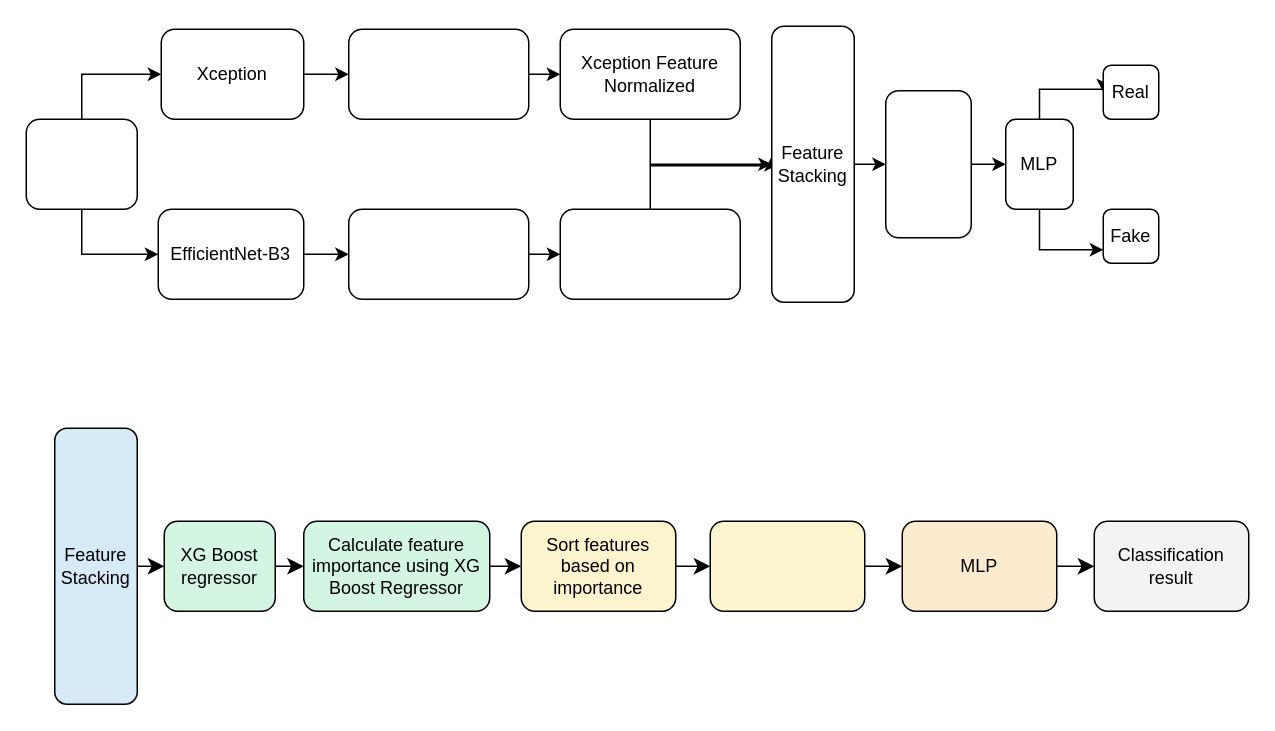
This 1275x731 diagram has some shape labels left out. The centre of each missing label's shape, as x and y in pixels:
"Dataset" belongs at point (81, 163).
"EfficientNet-B3 feature" belongs at point (438, 253).
"EfficientNet-B3 Feature Normalized" belongs at point (649, 253).
"Feature Selection" belongs at point (927, 163).
"Select top 50% features" belongs at point (787, 565).
"Xception Feature" belongs at point (438, 73).
